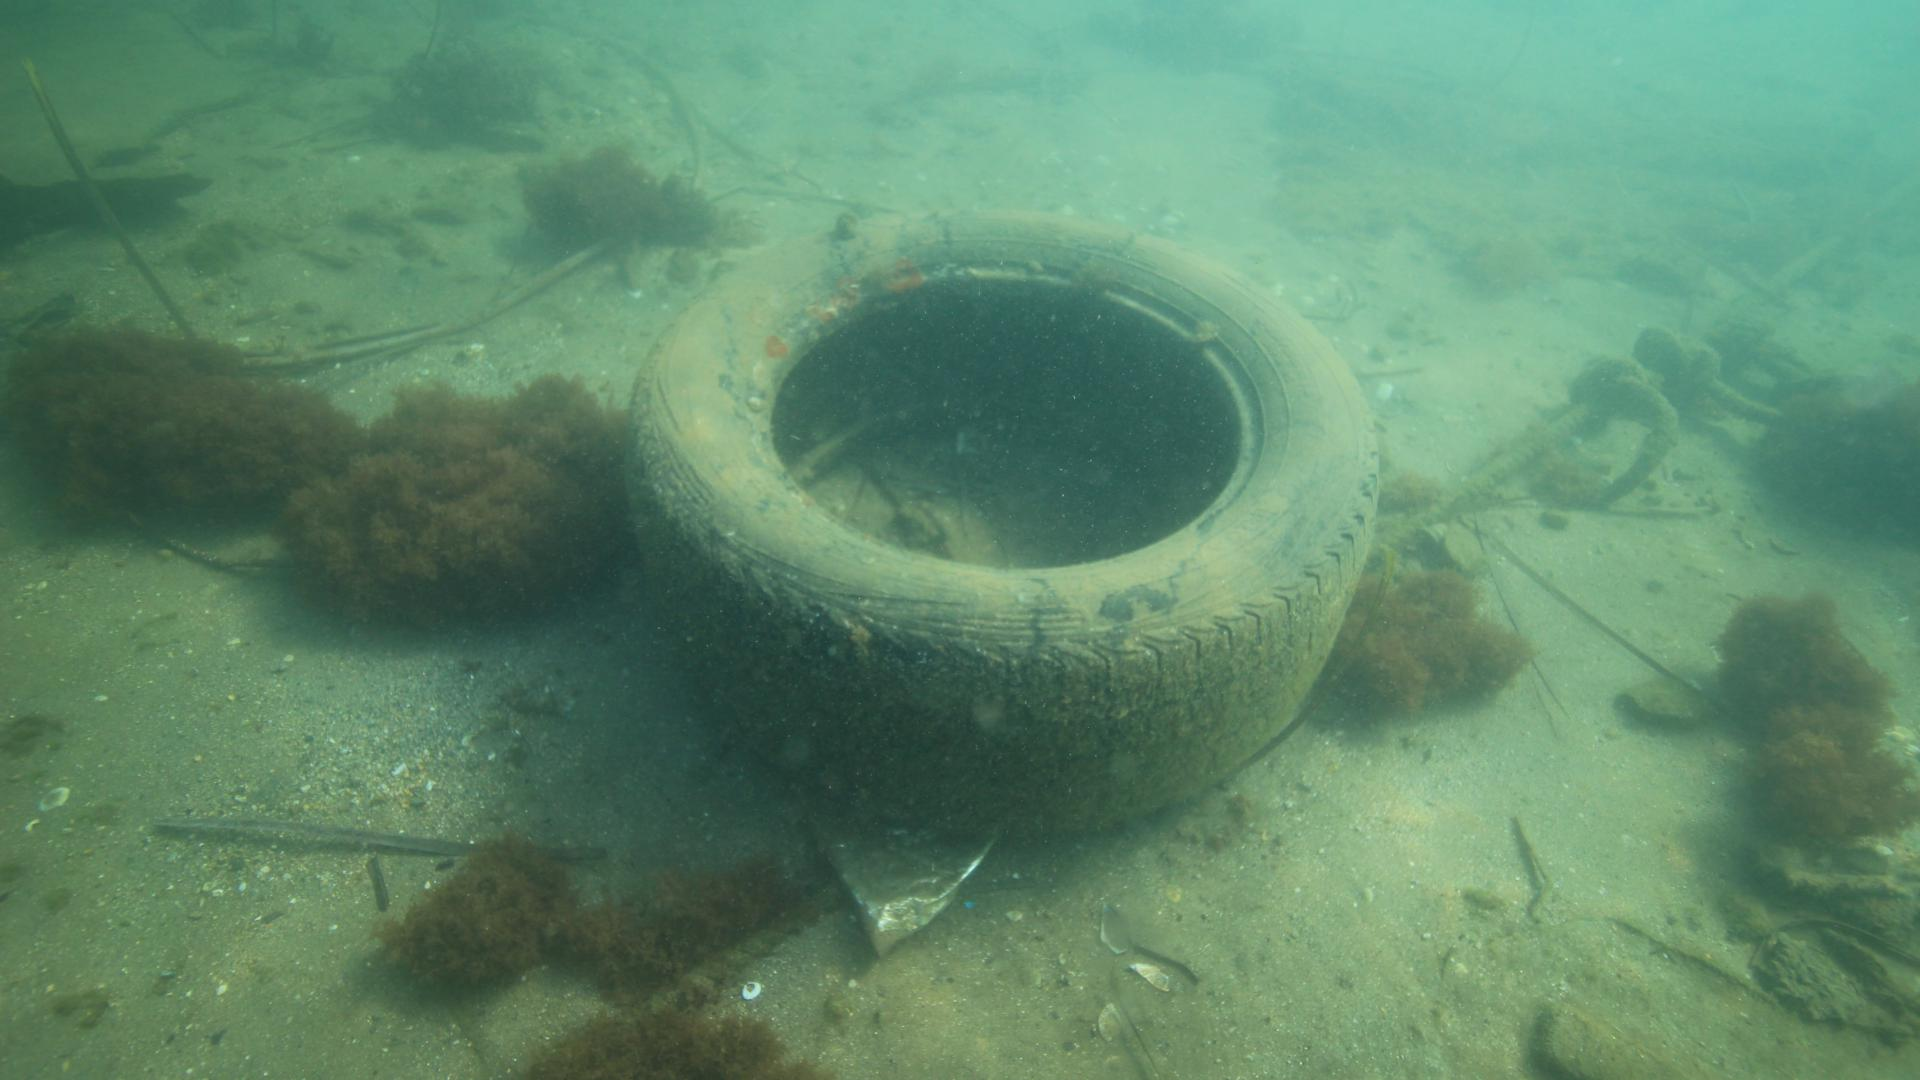bundle of ropes: (1367, 315, 1778, 564)
rope: (645, 880, 844, 1011)
tire: (618, 204, 1379, 825)
